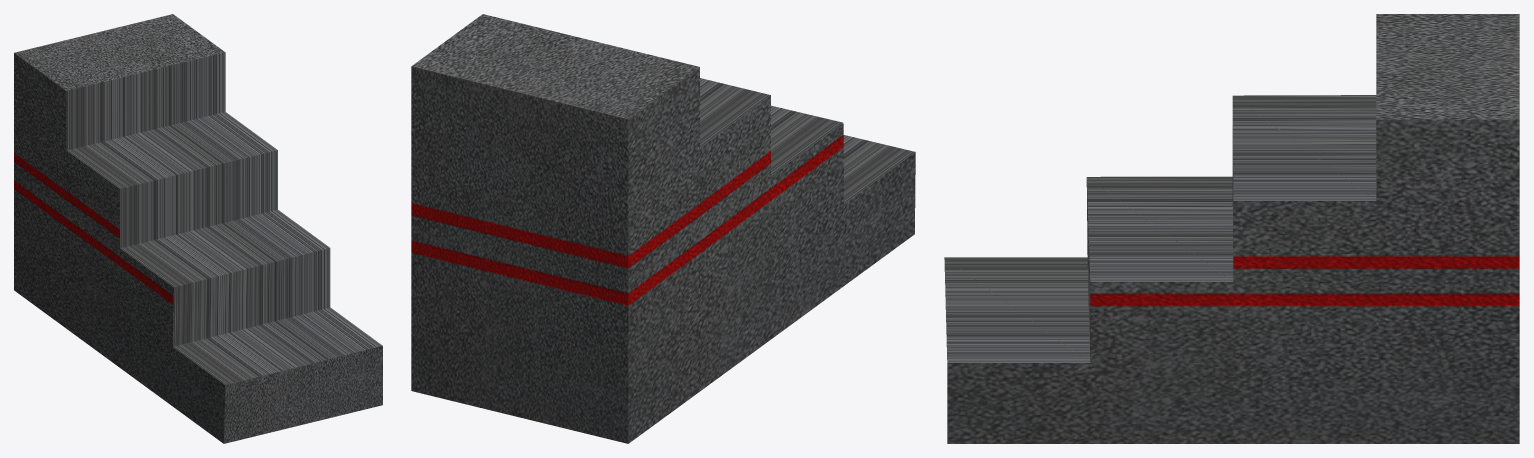
The model's file is stairs3.FBX.
3 renders of one model, left to right at view 1: azimuth 30°, elevation 25°; view 2: azimuth 150°, elevation 25°; view 3: azimuth 270°, elevation 25°, orthographic. The views are drawn at different scales.
Parts seen in each view (by area): view 1: stopien4, stopien3, stopien2, stopien1; view 2: stopien4, stopien3, stopien2, stopien1; view 3: stopien4, stopien3, stopien2, stopien1.
Boxes of the visible parts, x1,y1,x2,y2 form: stopien4: [14, 14, 225, 328]; stopien3: [66, 112, 277, 366]; stopien2: [119, 209, 330, 404]; stopien1: [171, 307, 382, 443]; stopien4: [411, 14, 699, 443]; stopien3: [700, 78, 771, 391]; stopien2: [771, 105, 843, 338]; stopien1: [843, 135, 915, 286]; stopien4: [1376, 14, 1519, 443]; stopien3: [1232, 95, 1376, 443]; stopien2: [1086, 176, 1233, 443]; stopien1: [944, 257, 1090, 443].
Bounding box in the file's own units: 35 × 50 × 80.39.
